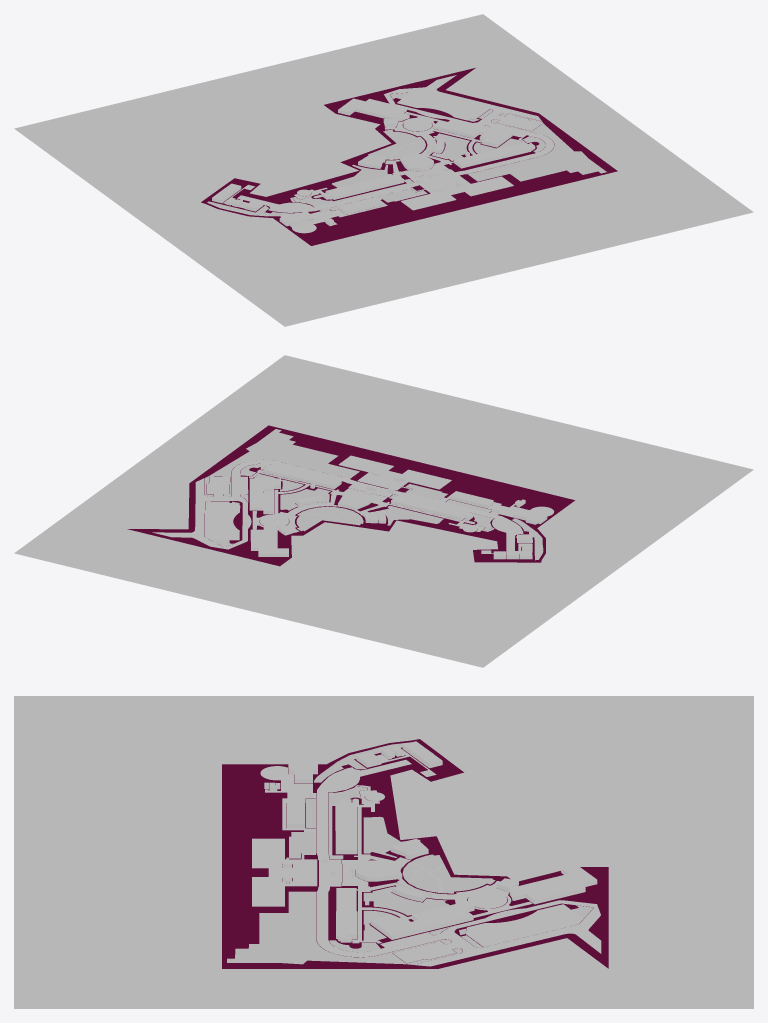
Rendered from njc-l1-v3-11-4.glb.
3 renders of one model, top to bottom at view 1: azimuth 30°, elevation 25°; view 2: azimuth 150°, elevation 25°; view 3: azimuth 270°, elevation 25°, orthographic. The views are drawn at different scales.
Parts seen in each view (by area): view 1: Grey, Base, Grass, None, Drive, Foot, Canteen; view 2: Grey, Base, Grass, None, Drive, Foot, Canteen; view 3: Grey, Base, Grass, None, Drive, Foot, Canteen, Atrium, DS3.
Boxes of the visible parts, box(x1,y1,x2,y2) form: Grey: box(14, 14, 753, 326); Base: box(201, 68, 617, 245); Grass: box(207, 92, 606, 216); None: box(212, 91, 531, 214); Drive: box(237, 75, 554, 212); Foot: box(223, 112, 528, 233); Canteen: box(401, 175, 513, 210); Grey: box(14, 355, 753, 667); Base: box(127, 425, 574, 566); Grass: box(204, 429, 543, 560); None: box(205, 464, 532, 559); Drive: box(152, 460, 523, 550); Foot: box(249, 469, 554, 553); Canteen: box(338, 455, 451, 490); Grey: box(14, 696, 753, 1008); Base: box(222, 739, 608, 968); Grass: box(227, 742, 592, 964); None: box(286, 741, 597, 946); Drive: box(316, 759, 601, 966); Foot: box(260, 751, 532, 943); Canteen: box(252, 838, 317, 906); Atrium: box(467, 891, 507, 908); DS3: box(288, 761, 317, 783).
Bounding box in the file's own units: 30 × 0.203 × 30.
